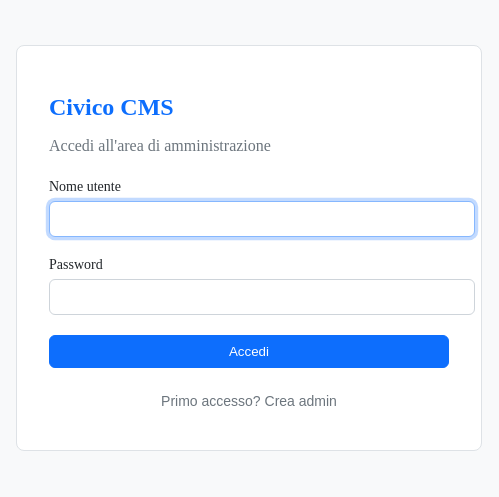
Scenario: LoginPage › displays error message on login failure
Type "admin" into the field labelled "Nome utente".
click(262, 219); type("admin")  # box [49, 201, 475, 237]
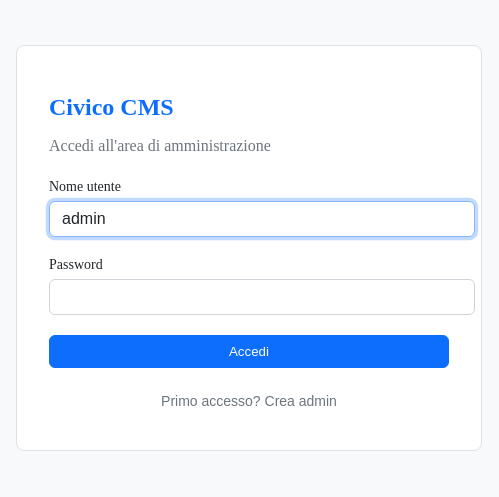
Type "wrong" into the password field labelled "Password".
click(262, 297); type("wrong")  # box [49, 279, 475, 315]
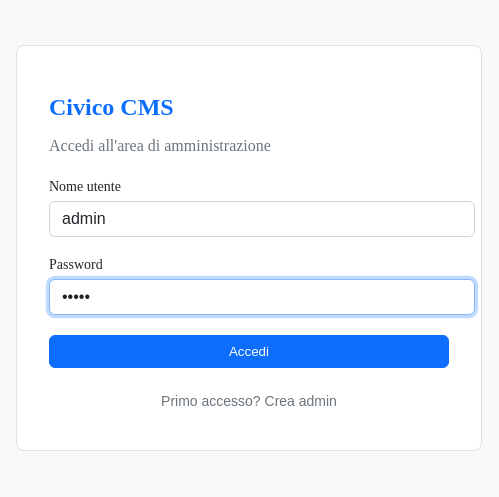
Click the button "Accedi".
click(249, 352)  # box [49, 335, 449, 368]
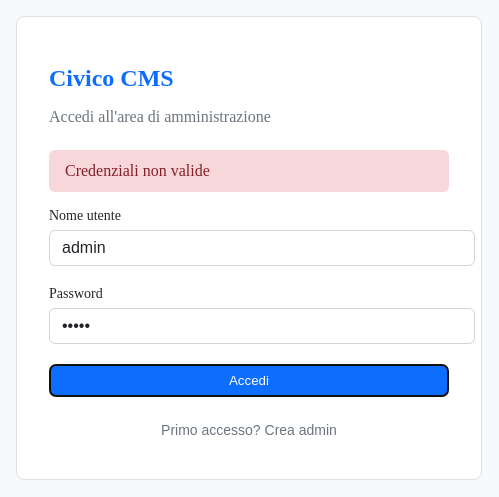
Result: the text "Credenziali non valide" is shown at [49, 150, 449, 192]
